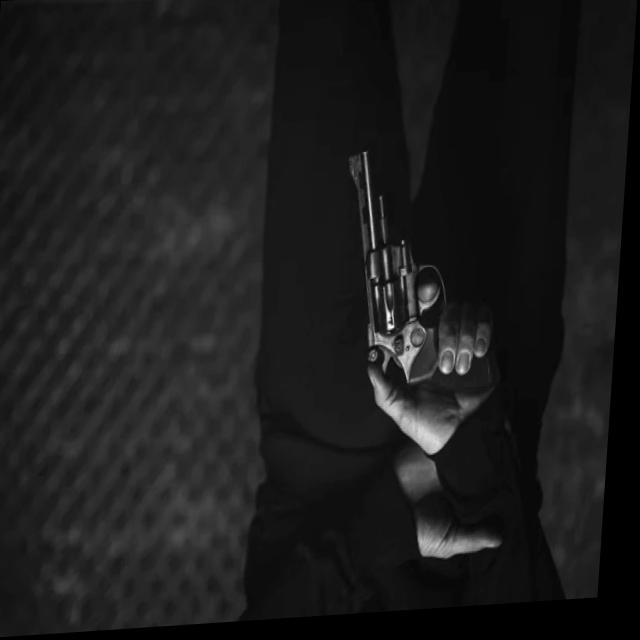handgun: (339, 145, 479, 394)
